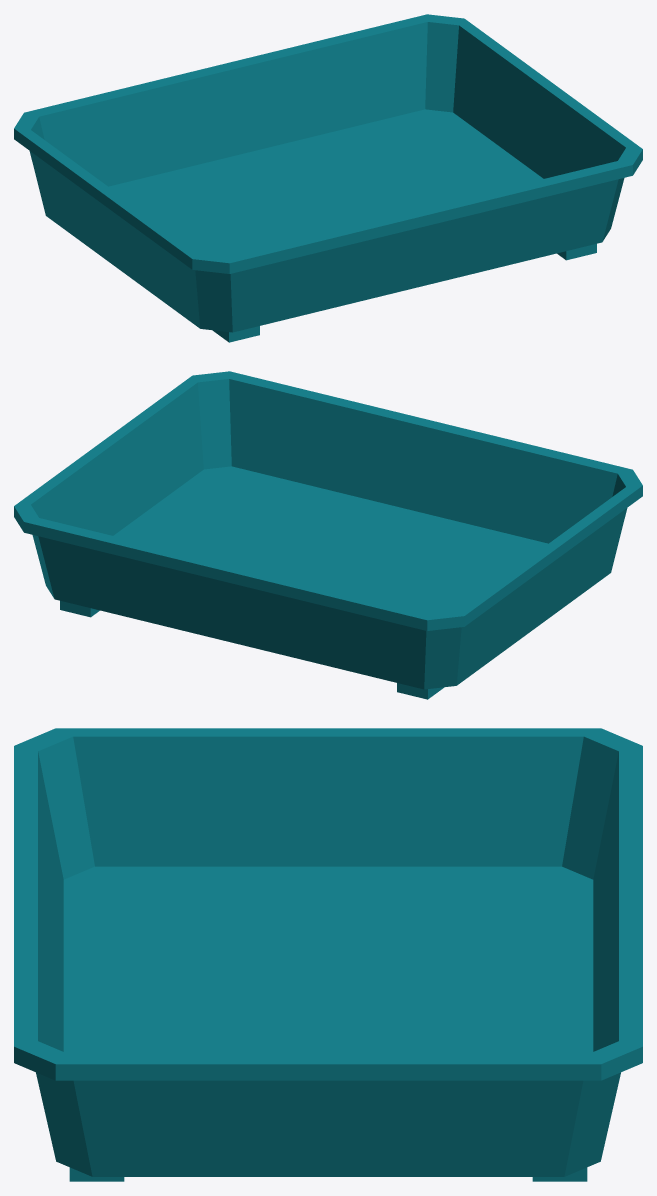
Rendered from SM_Cook_HerbTray_Cyan_01.glb.
The picture shows the model from 3 angles, top to bottom: view 1: azimuth 30°, elevation 25°; view 2: azimuth 150°, elevation 25°; view 3: azimuth 270°, elevation 25°; orthographic projection. The views are drawn at different scales.
Parts seen in each view (by area): view 1: SM_Cook_HerbTray_Cyan_01; view 2: SM_Cook_HerbTray_Cyan_01; view 3: SM_Cook_HerbTray_Cyan_01.
Boxes of the visible parts, <box> form: SM_Cook_HerbTray_Cyan_01: <box>14,14,642,342</box>; SM_Cook_HerbTray_Cyan_01: <box>14,371,642,699</box>; SM_Cook_HerbTray_Cyan_01: <box>14,728,642,1181</box>.
Bounding box in the file's own units: 0.4374 × 0.09 × 0.346.
Materials: 1 (1 with a texture image).
